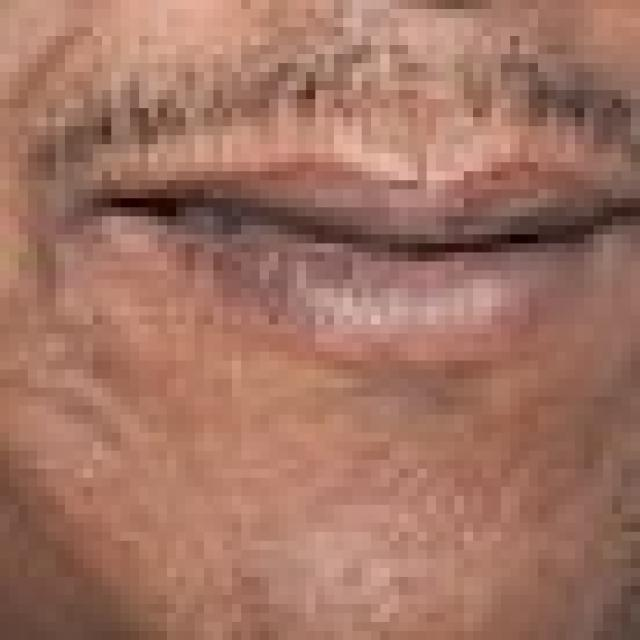closed-mouth: (0, 0, 631, 631), (65, 136, 631, 352)
